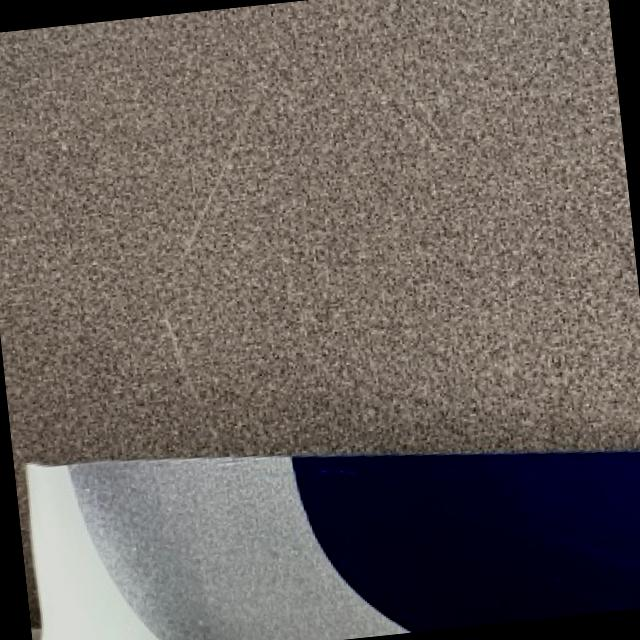healthy: (31, 449, 640, 640)
